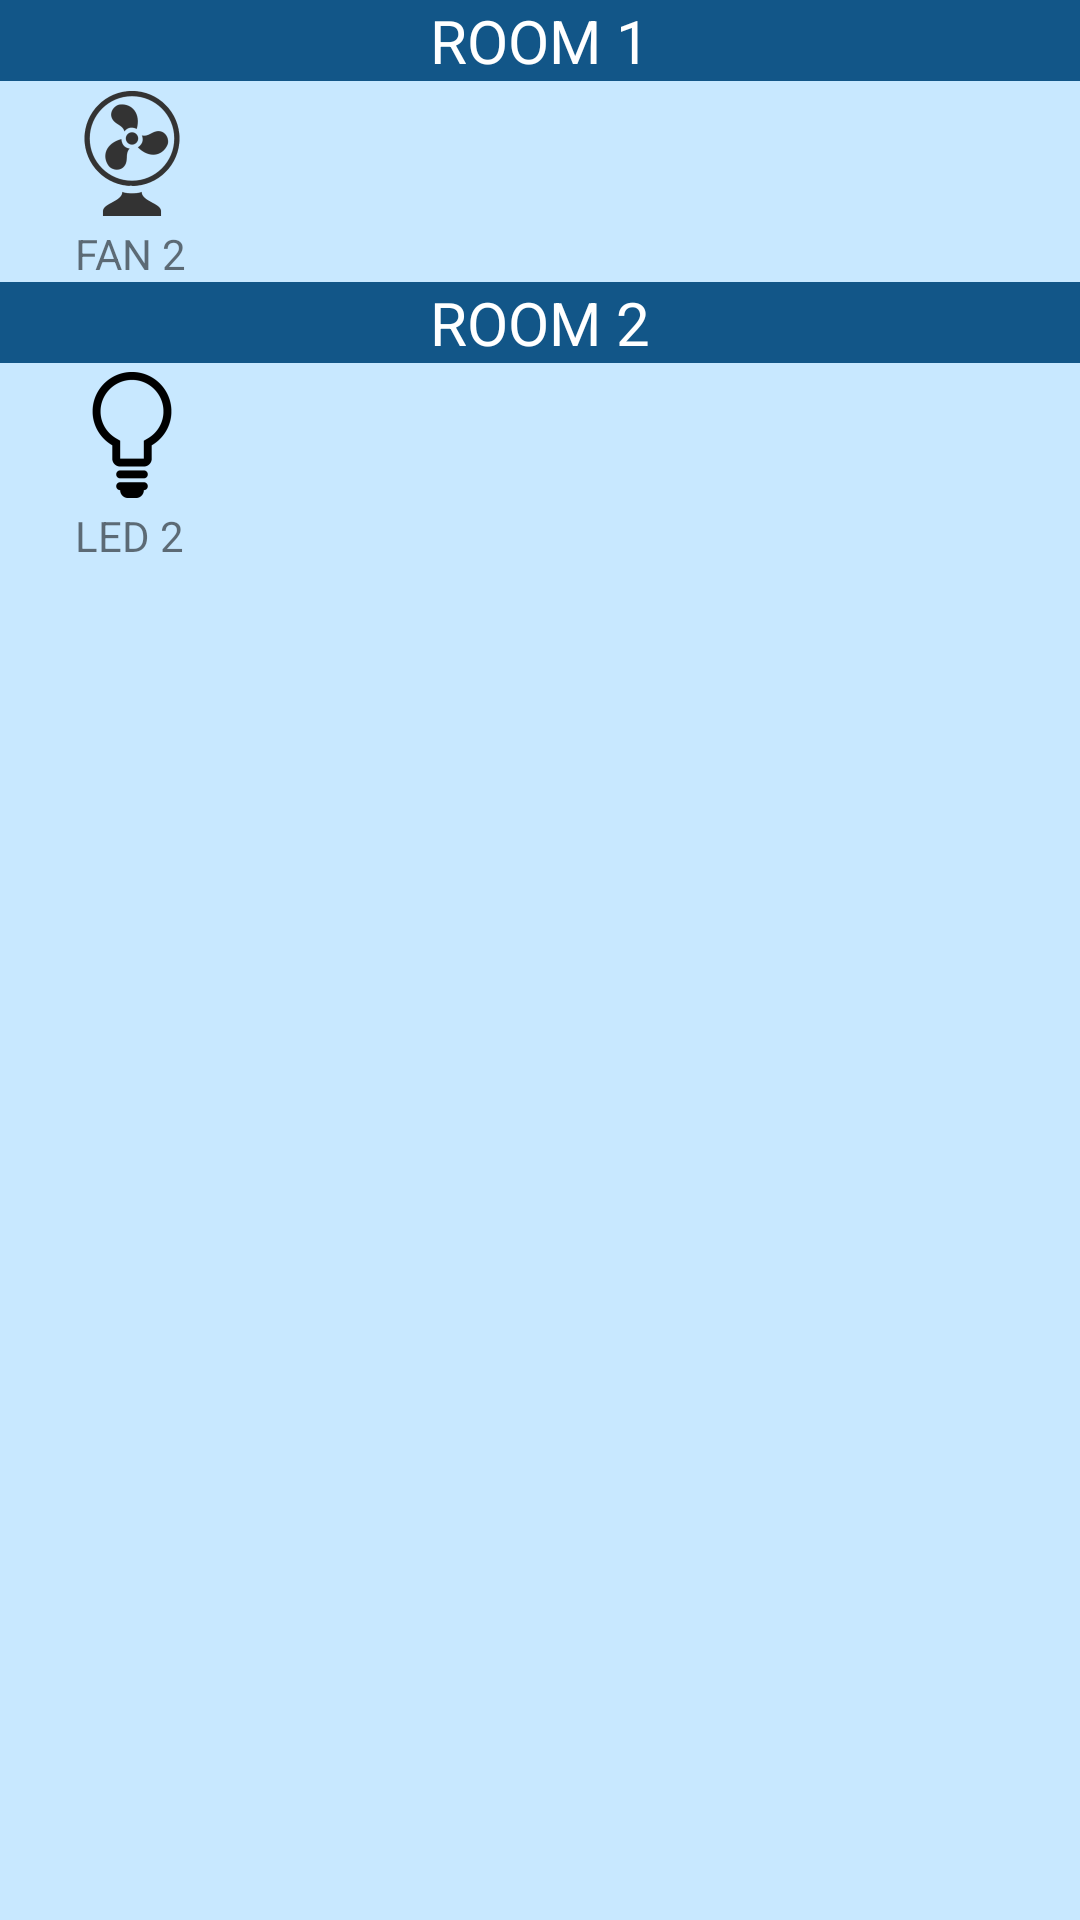

Where icons sit on this 1080*1920 app screen, as region(x1, y1, x2, y2):
fan off: region(84, 91, 180, 216)
led off: region(92, 372, 172, 498)
